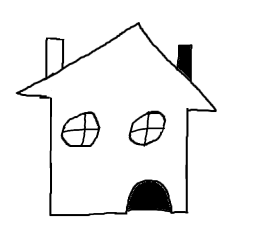chimney: (30, 28, 72, 78), (169, 35, 201, 84)
closed_window: (126, 100, 169, 149), (59, 111, 109, 150)
door: (122, 177, 177, 217)
single_line_roof: (11, 17, 225, 121)
wall: (44, 98, 193, 223)
